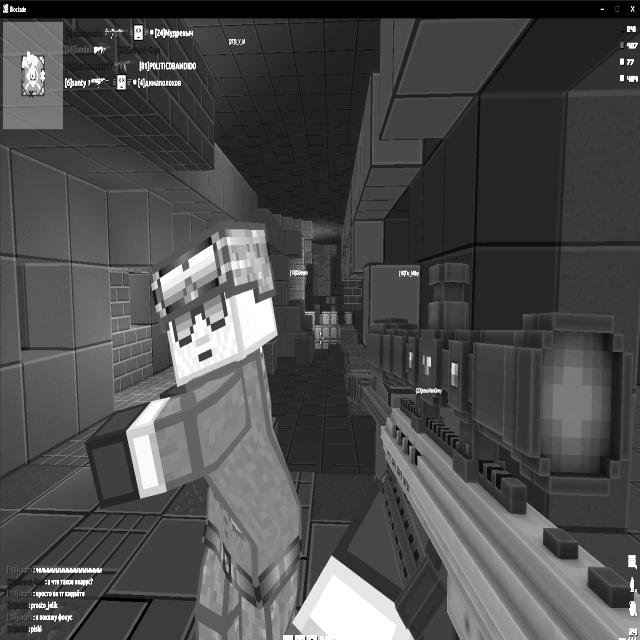Head: (151, 219, 279, 389)
Player: (85, 218, 305, 638)
